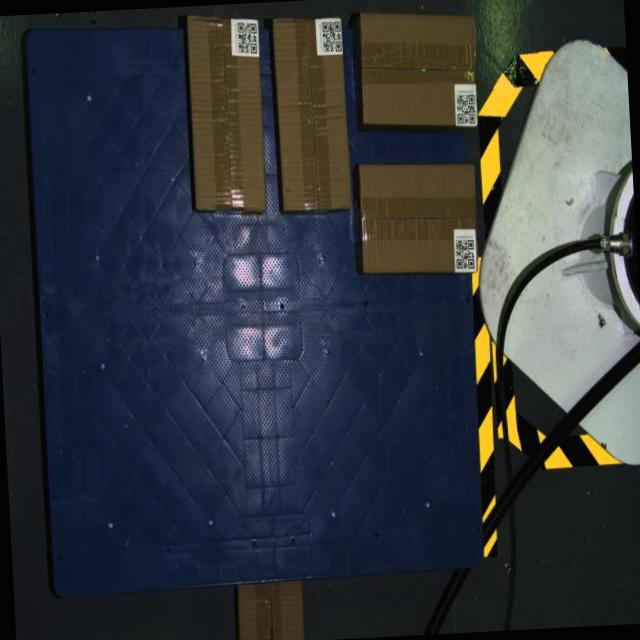box: (185, 12, 268, 215), (273, 16, 352, 212), (358, 7, 480, 132), (358, 159, 480, 279)
